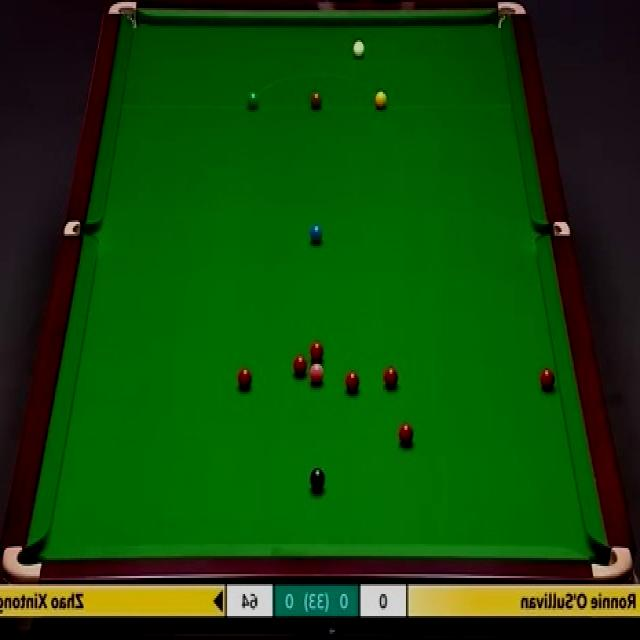black-ball: (308, 467, 324, 490)
blue-ball: (309, 222, 324, 244)
brown-ball: (309, 91, 323, 110)
green-ball: (247, 90, 260, 111)
pink-ball: (308, 362, 325, 387)
red-ball: (344, 370, 361, 394), (398, 421, 414, 446), (236, 368, 252, 392), (292, 354, 308, 378), (538, 368, 555, 390), (384, 366, 398, 390), (309, 340, 324, 361)
white-ball: (349, 36, 364, 56)
yellow-ball: (374, 88, 388, 109)
